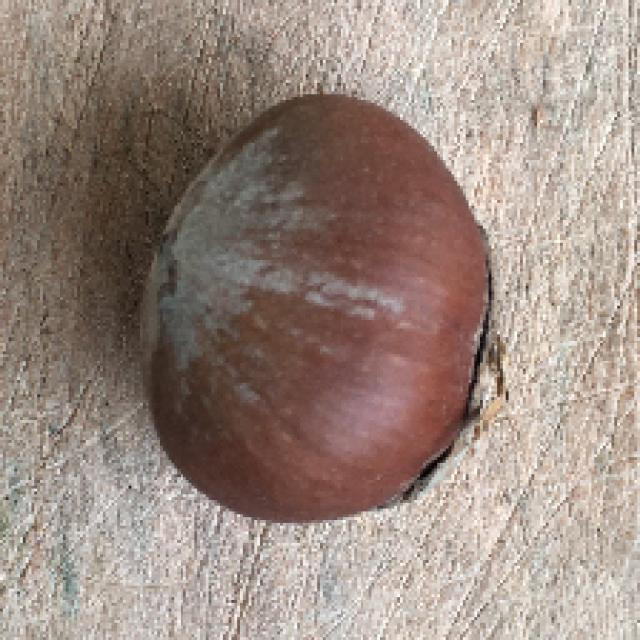damagedHazelnut: (138, 82, 518, 534)
